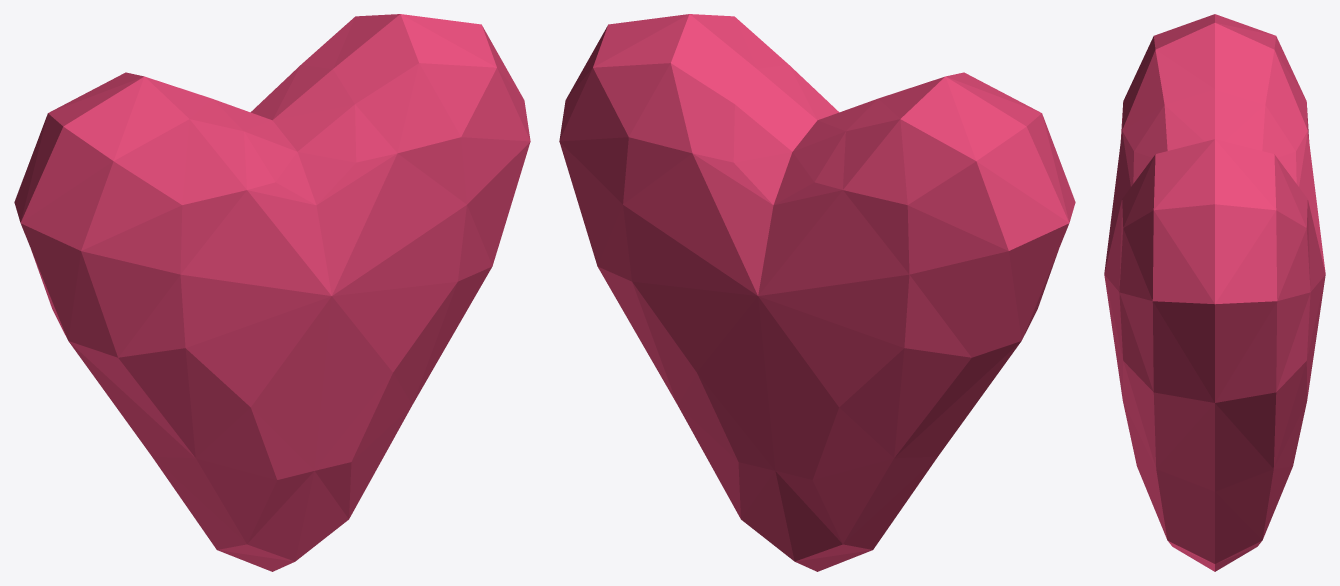
File: srce.fbx
3 views of the same model, side by side, from view 1: azimuth 30°, elevation 25°; view 2: azimuth 150°, elevation 25°; view 3: azimuth 270°, elevation 25° (orthographic). The views are drawn at different scales.
Parts seen in each view (by area): view 1: Cylinder; view 2: Cylinder; view 3: Cylinder.
Part boxes in pixels (x1,y1,x2,y2): Cylinder: (14,14,530,571); Cylinder: (559,14,1075,571); Cylinder: (1104,14,1325,571).
Size of the model in its own units: 1.06 by 1.06 by 0.4338.
